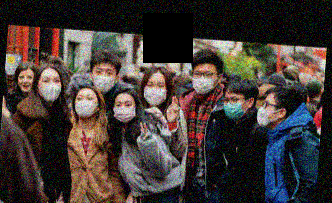with_mask: (192, 67, 218, 96), (92, 65, 117, 93), (143, 78, 167, 106), (112, 98, 138, 123), (37, 74, 61, 101), (255, 98, 277, 127), (223, 94, 247, 120), (75, 92, 99, 117)
without_mask: (17, 72, 36, 91)
